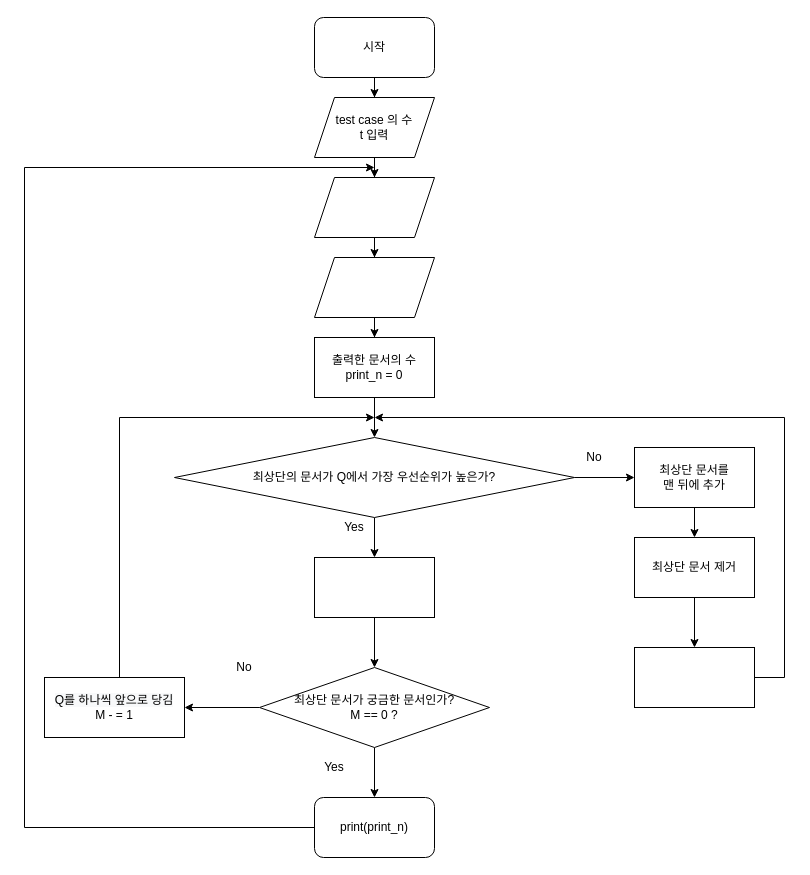
Image size: 810x875. Some labels were removed from this diagram. The centre of each missing label's shape, as x and y in pixels:
"print_n += 1" belongs at (x=374, y=587).
"문서들의 중요도 Q 입력" belongs at (x=374, y=287).
"문서의 수 N 궁금한 문서 M 입력" belongs at (x=374, y=207).
"하나씩 당겨졌으므로 M -= 1" belongs at (x=694, y=677).
